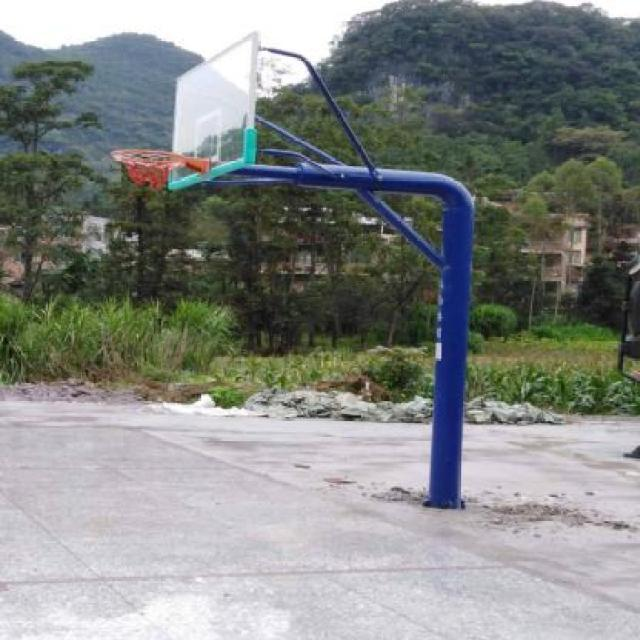rim: (110, 148, 183, 192)
